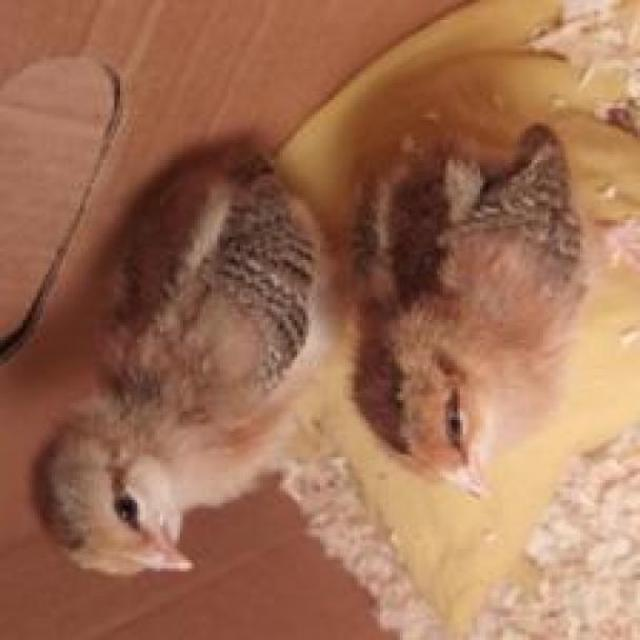Chicken: (43, 124, 343, 601)
